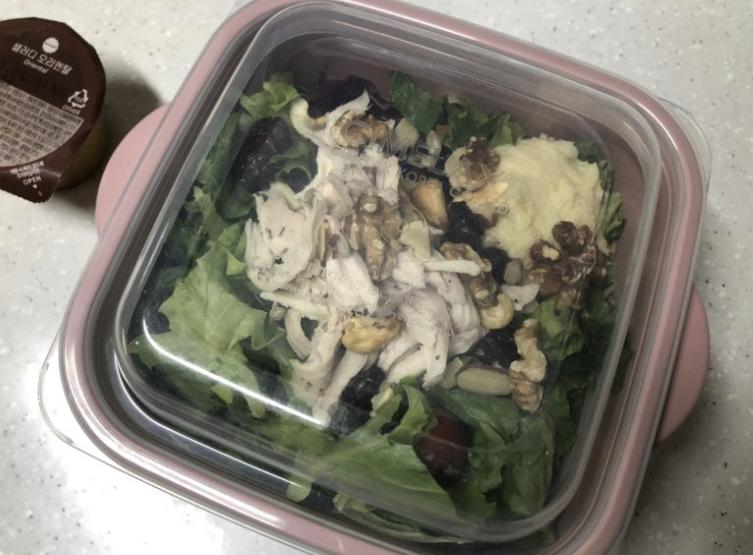Lunch Box: (38, 0, 708, 554), (40, 0, 708, 554)
cup: (0, 18, 105, 201)
